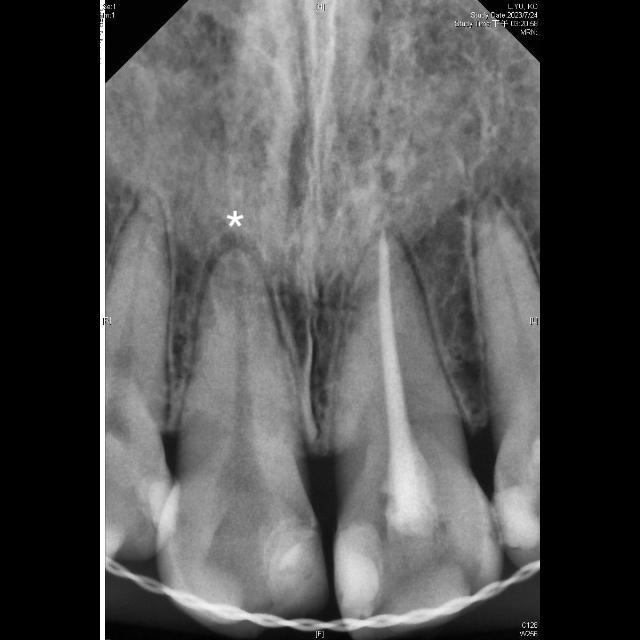test-segment: (161, 250, 327, 626)
